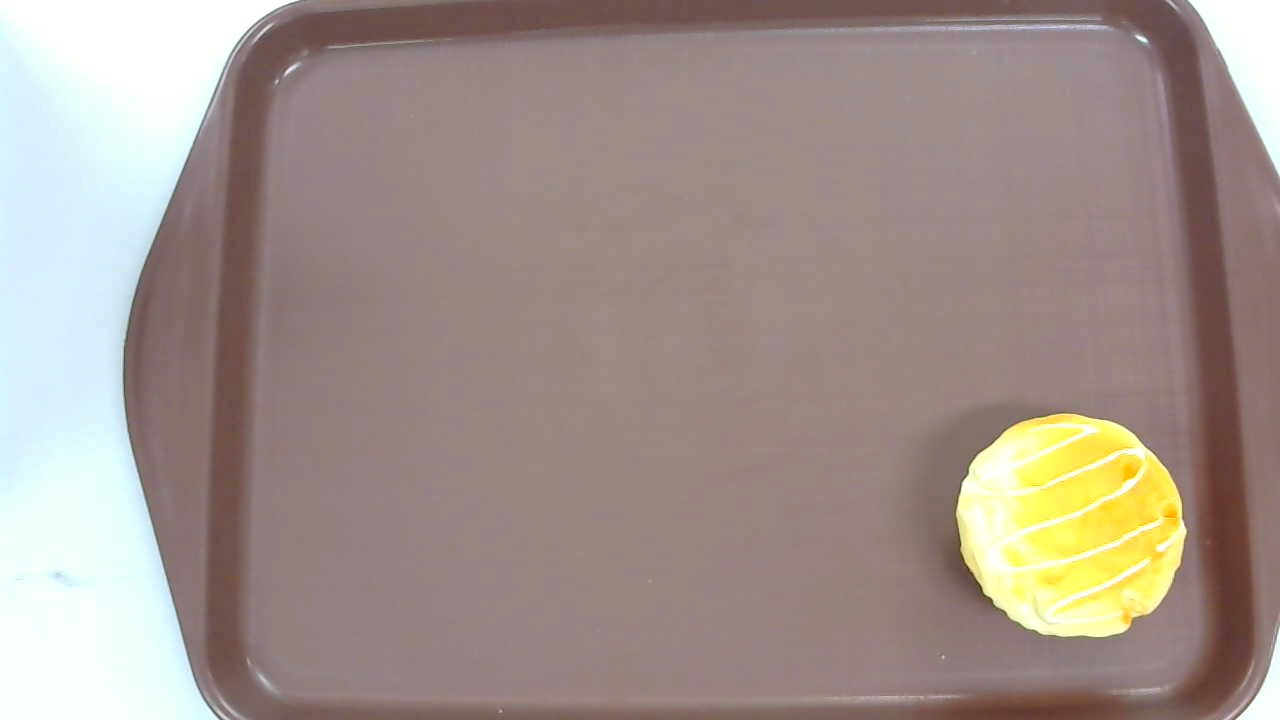cupcake: (955, 413, 1188, 637)
